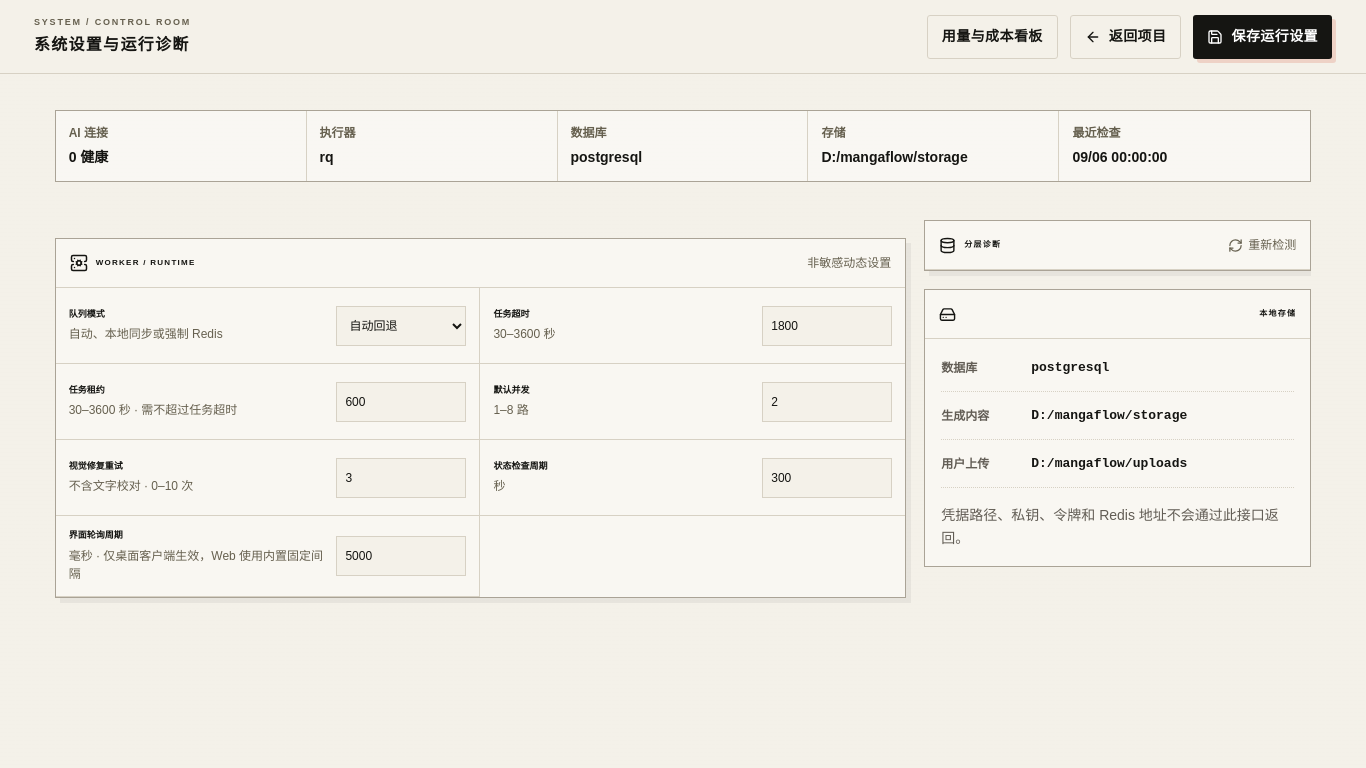
Test: SystemSettingsPage 任务租约设置 › 保存在途继续修改时，响应落地保留本地修改而不是提交快照回弹（#650）
The image size is (1366, 768).
Replace the text in the number field labelled "任务租约 30–3600 秒 · 需不超过任务超时" with "90": (401, 402) [336,382,466,422]
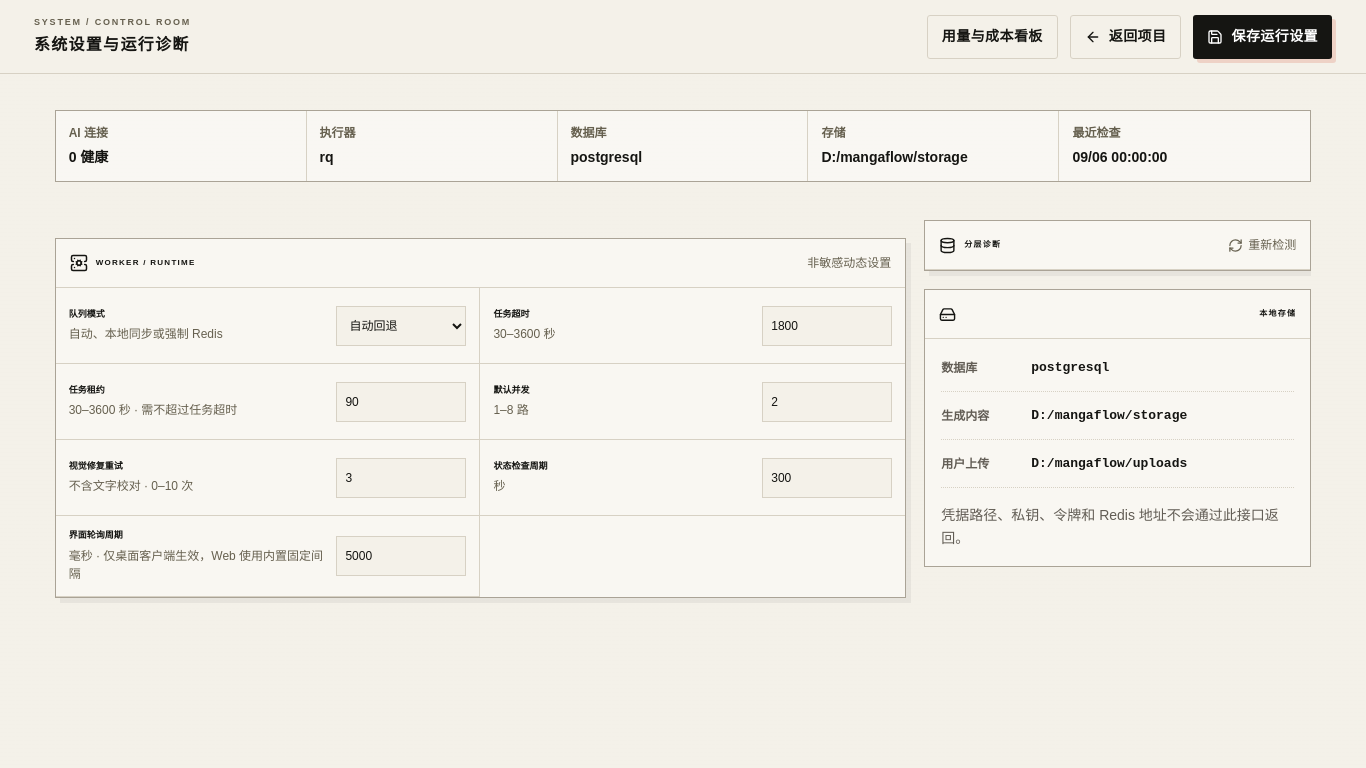
Click the button "保存运行设置": (1263, 36) [1194,14,1332,58]
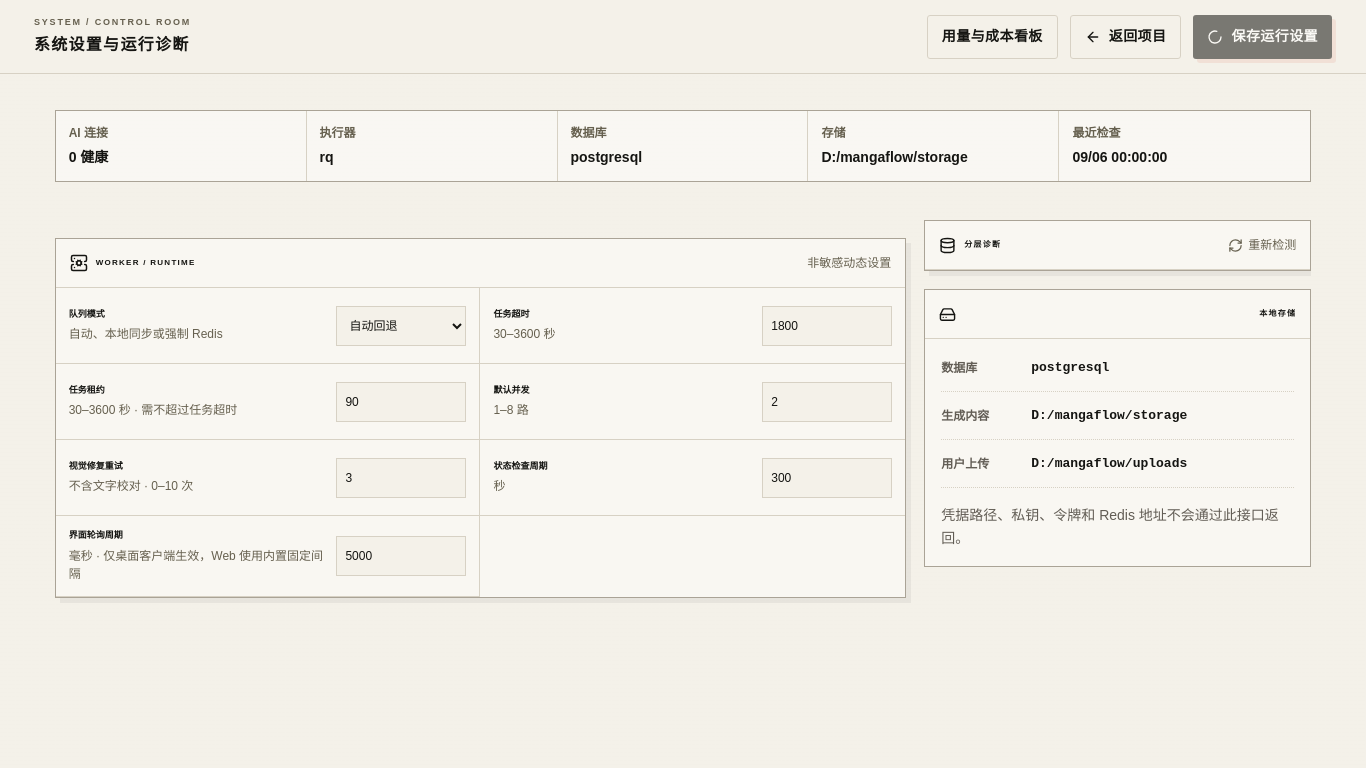
Select "本地同步" in the dropdown labelled "队列模式 自动、本地同步或强制 Redis": (401, 326) [336,306,466,346]
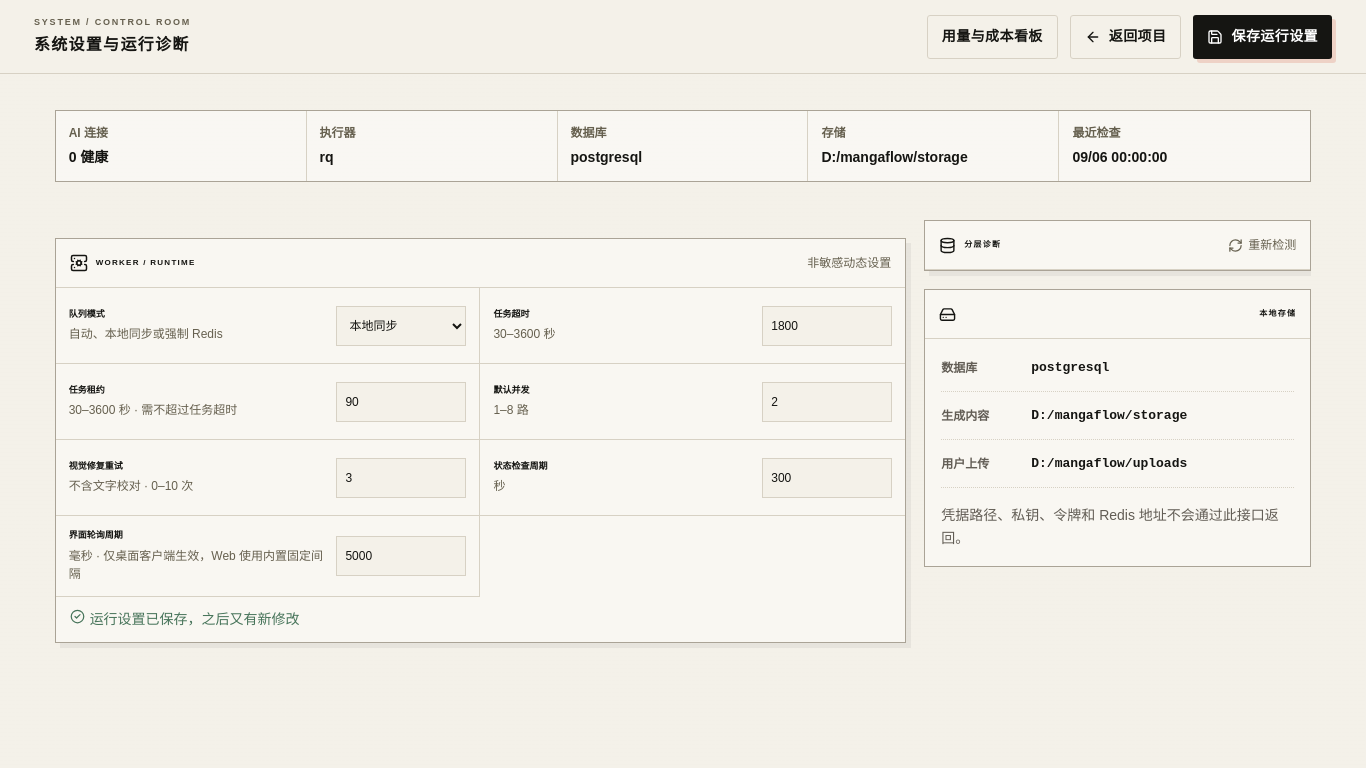
Check: the text "运行设置已保存，之后又有新修改" is shown, box [70,608,300,626]
